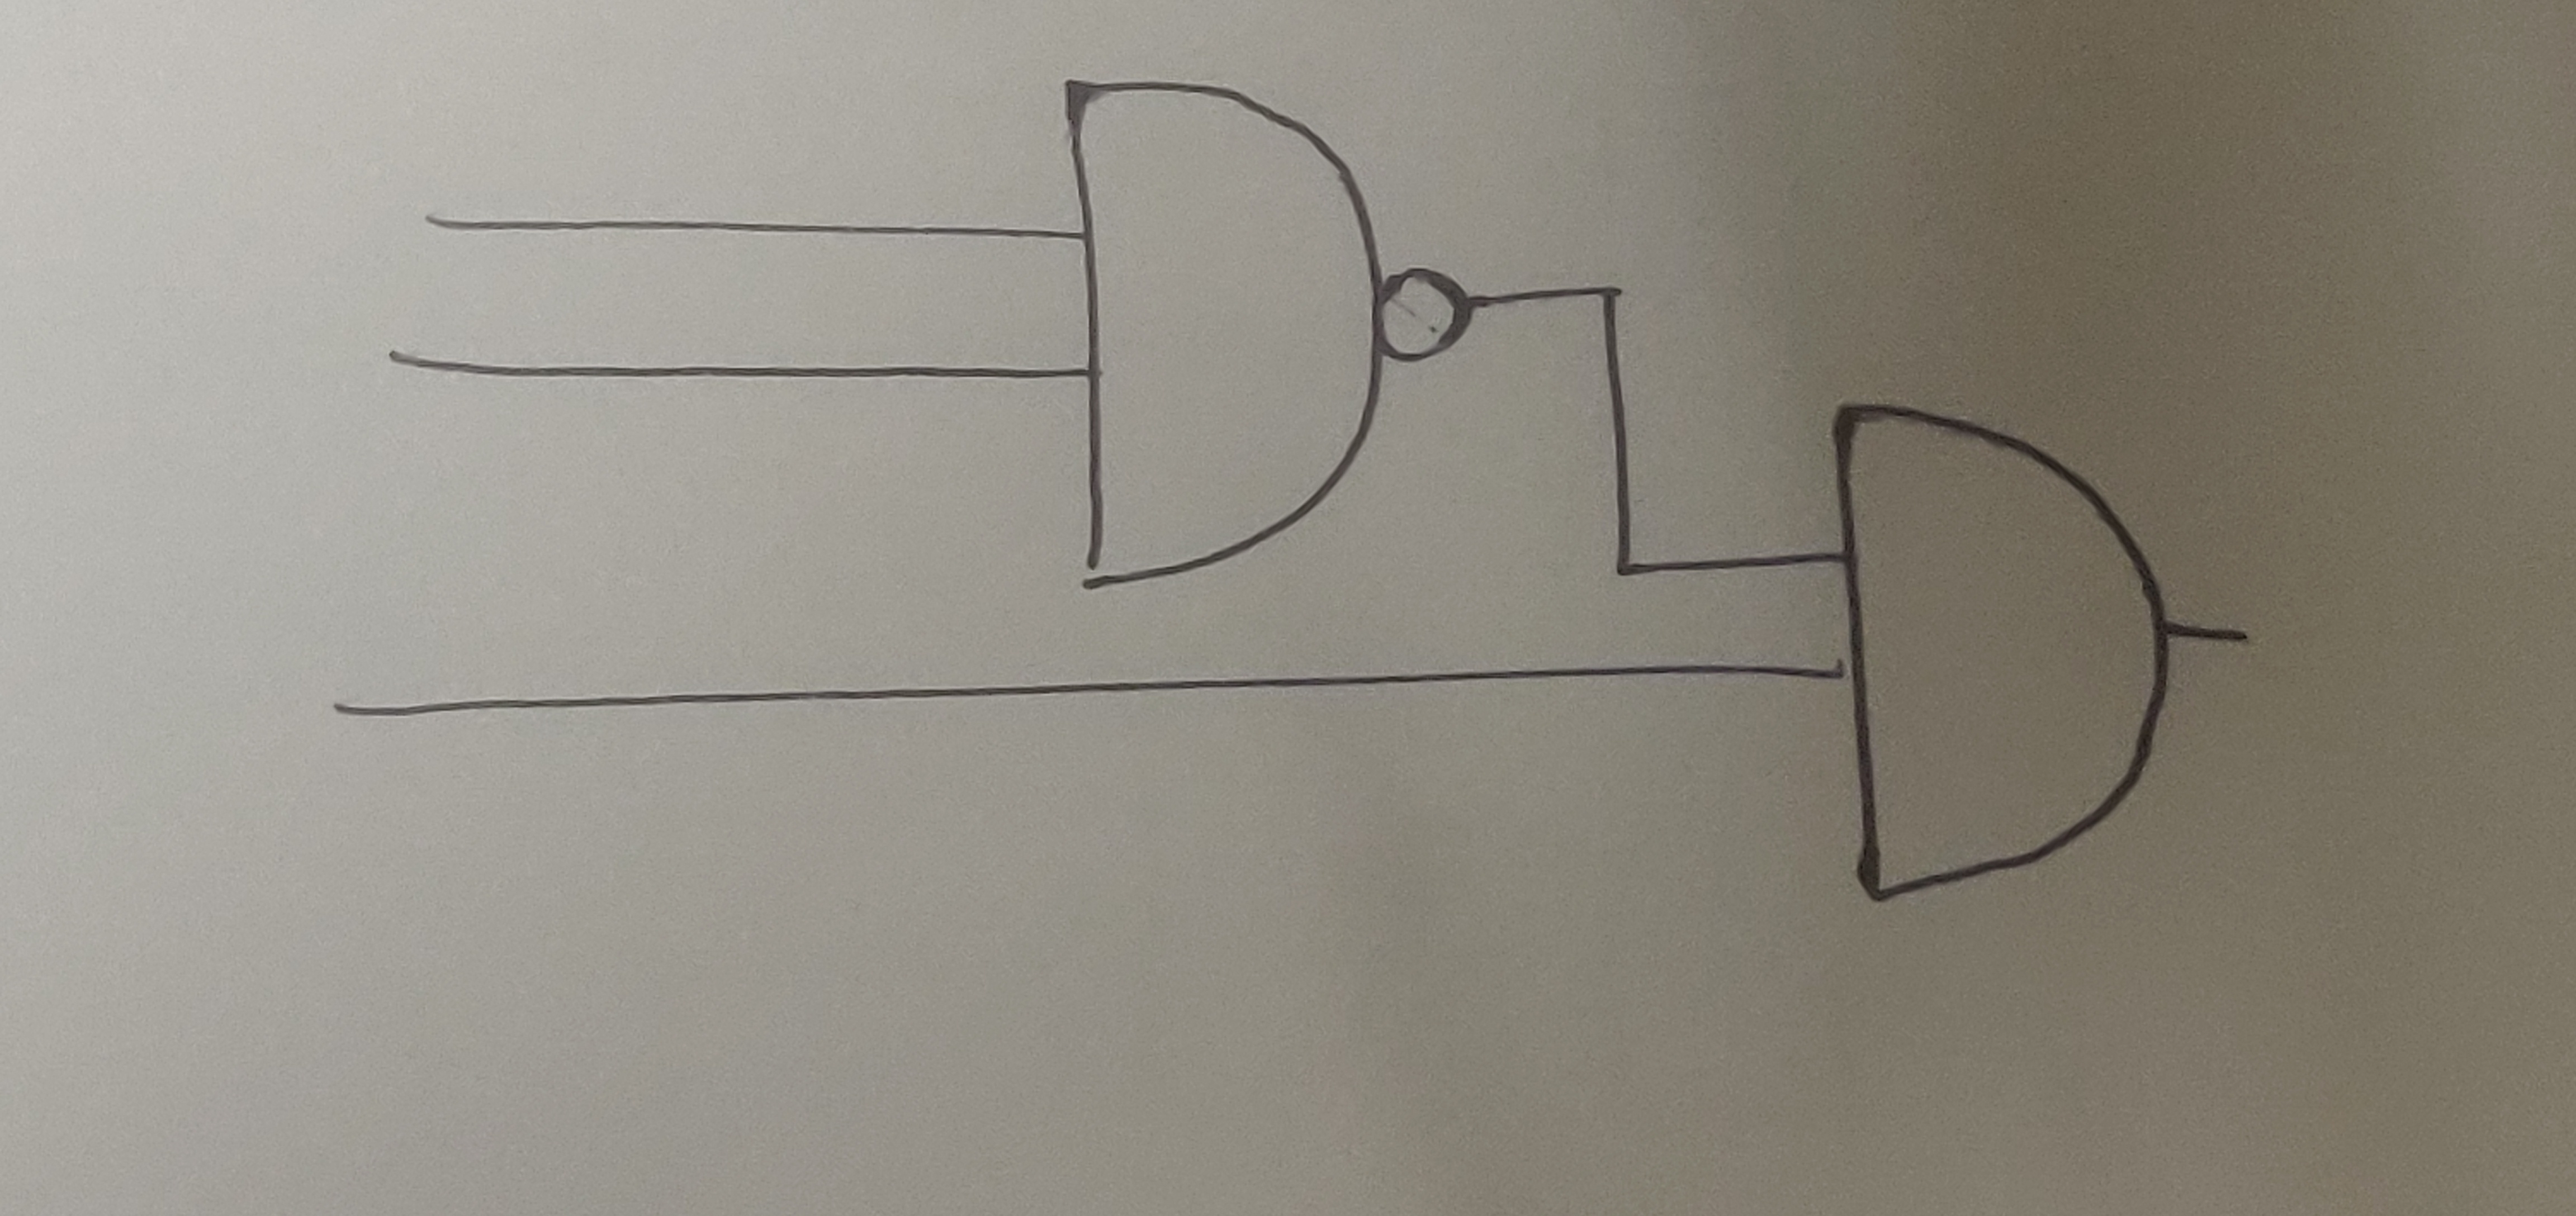and: (1830, 394, 2172, 907), (1058, 76, 1390, 592)
not: (1380, 266, 1475, 365)
